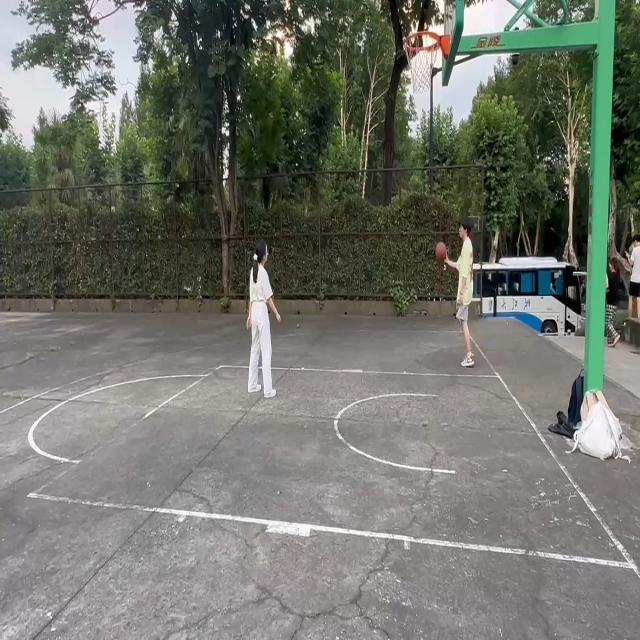basketball: (403, 27, 450, 104)
rim: (438, 243, 448, 261)
